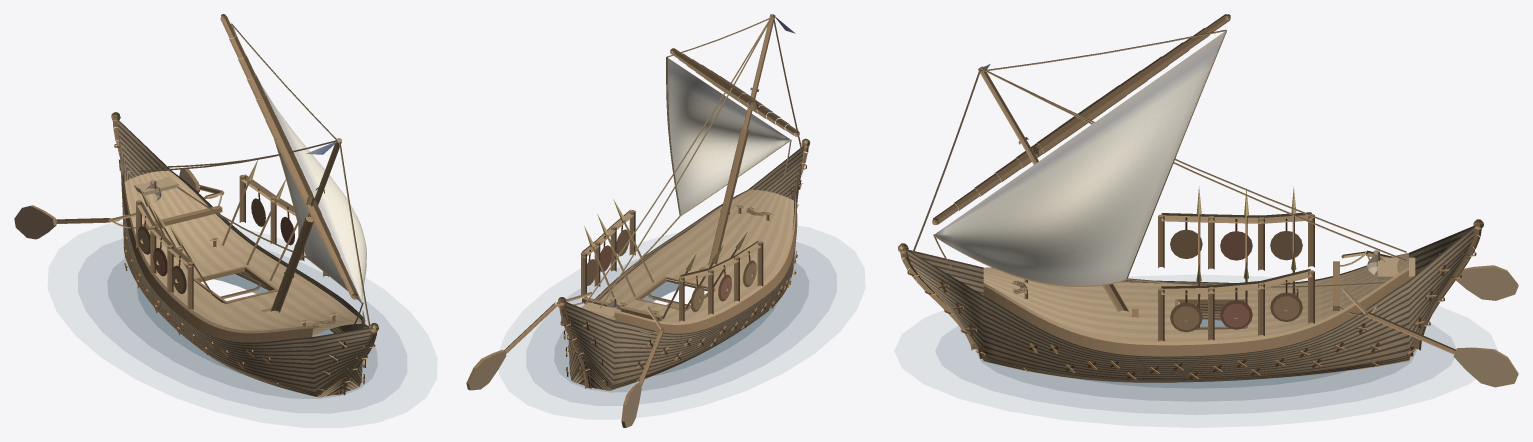
The model's file is dashi_sewn_armed.glb.
The picture shows the model from 3 angles, left to right: view 1: azimuth 30°, elevation 25°; view 2: azimuth 150°, elevation 25°; view 3: azimuth 270°, elevation 25°; orthographic projection. The views are drawn at different scales.
Parts seen in each view (by area): view 1: Fittings, Shadow, Deck, Hull, Sails, Stitches; view 2: Fittings, Shadow, Hull, Deck, Sails, Stitches; view 3: Fittings, Sails, Hull, Shadow, Deck, Stitches.
Part boxes in pixels (x1,y1,x2,y2): Fittings: [14, 14, 378, 395]; Shadow: [78, 238, 407, 413]; Deck: [124, 170, 361, 335]; Hull: [117, 119, 372, 397]; Sails: [232, 26, 366, 302]; Stitches: [114, 144, 375, 394]; Fittings: [466, 14, 810, 427]; Shadow: [526, 241, 836, 405]; Hull: [563, 145, 804, 390]; Deck: [588, 189, 793, 322]; Sails: [667, 15, 795, 215]; Stitches: [560, 164, 806, 386]; Fittings: [898, 14, 1518, 387]; Sails: [934, 31, 1225, 285]; Hull: [906, 225, 1474, 382]; Shadow: [935, 319, 1456, 414]; Deck: [983, 253, 1408, 341]; Stitches: [907, 251, 1476, 379].
Size of the model in its own units: 5.33 by 5.42 by 9.17.
